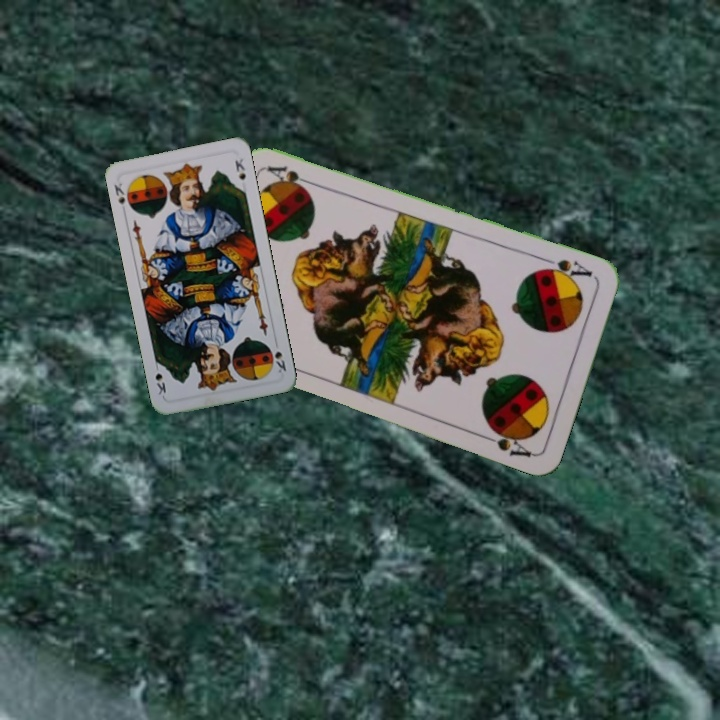SA: (537, 254, 596, 285)
SK: (110, 179, 135, 214), (271, 336, 289, 376)
